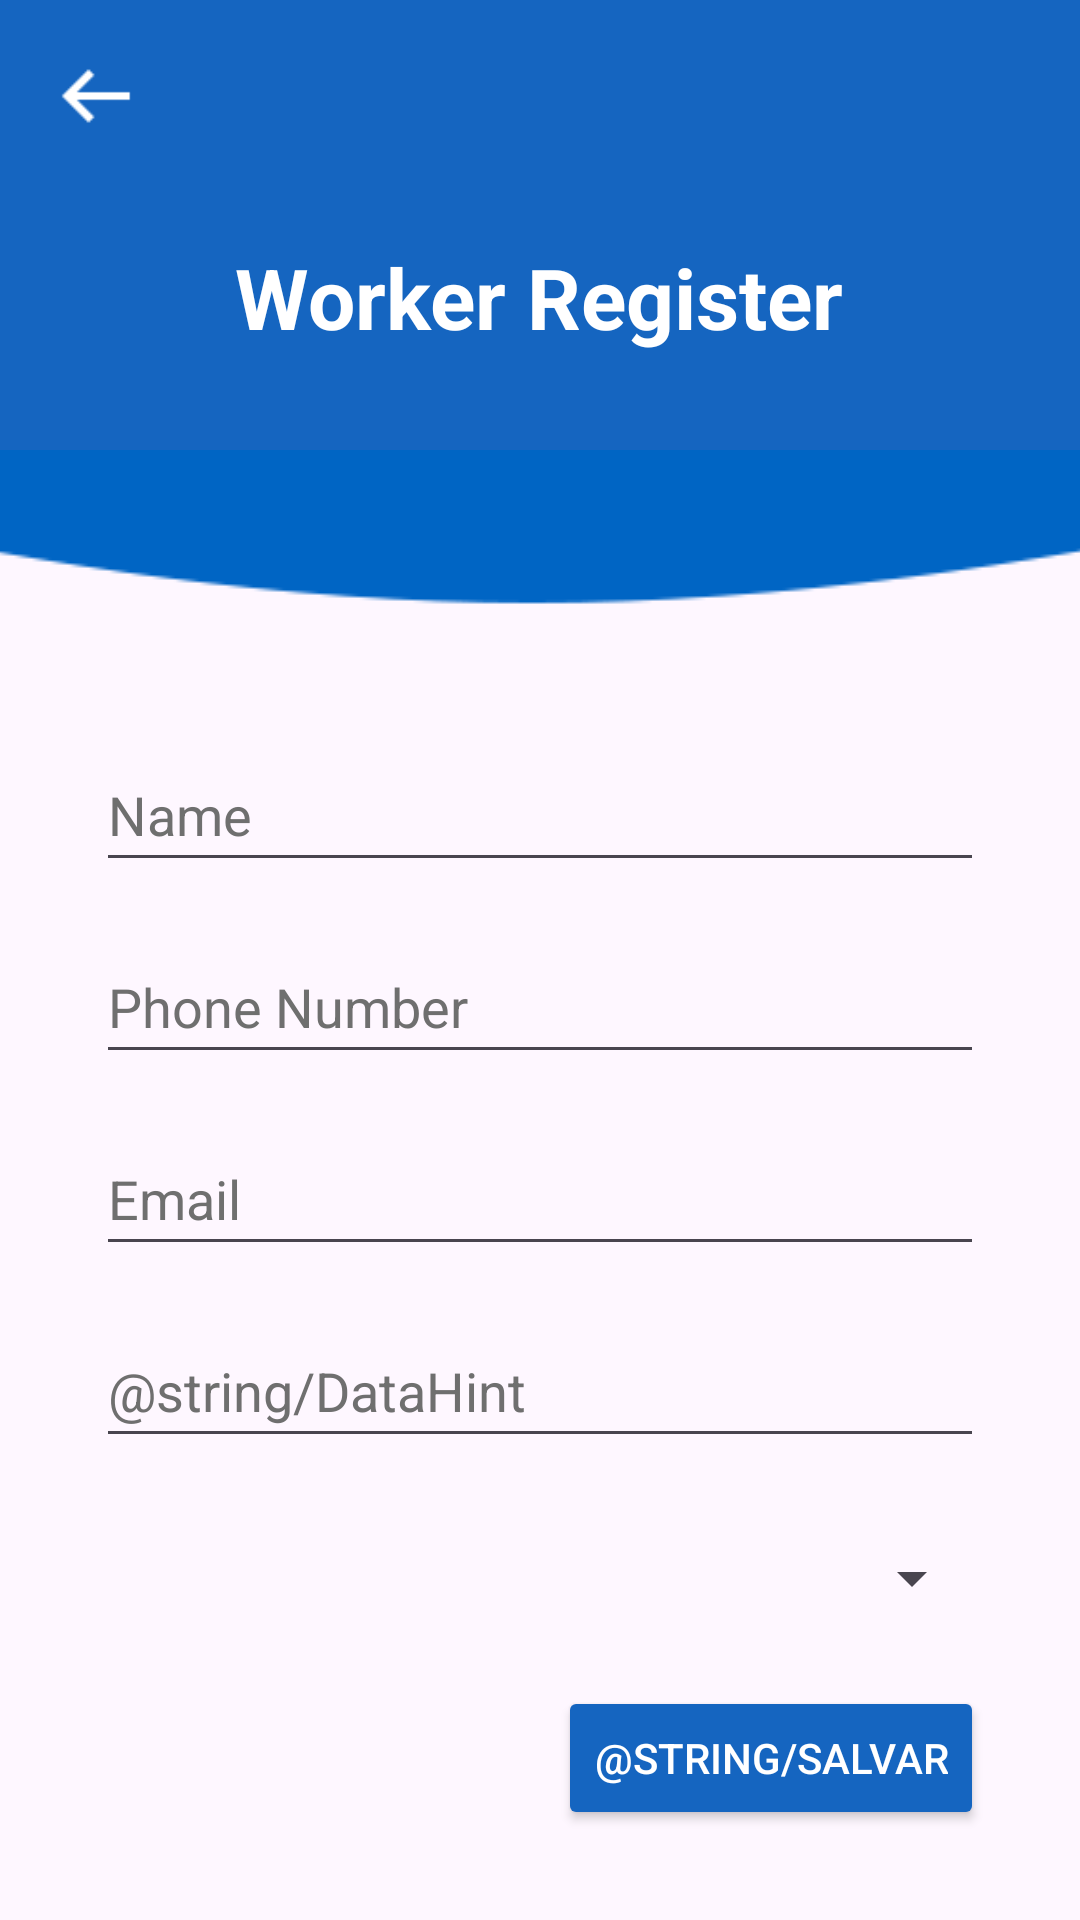

Named icons in this screenshot (1080w x 1920h) and their centers, (x=x, y=y):
Back: (x=96, y=96)
